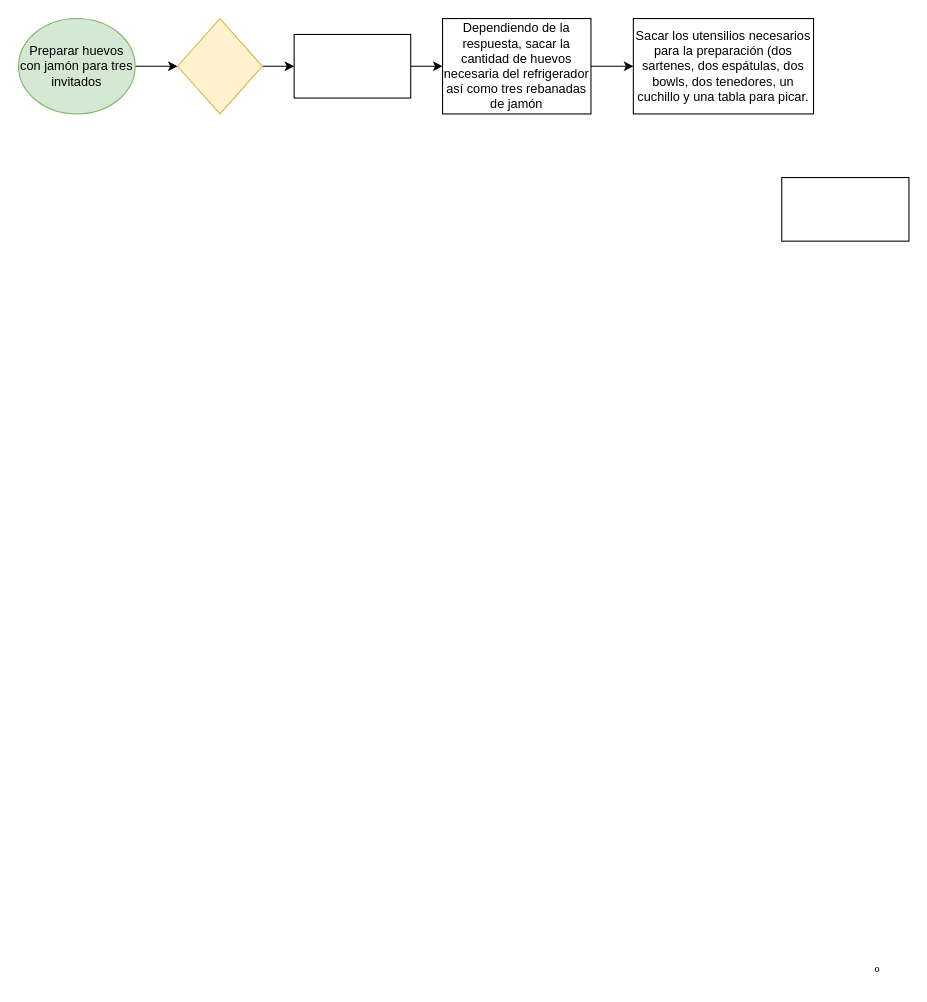
Image size: 927x1002. Some labels were removed from this diagram. Each missing label, with the box of its shape:
Calcular cuántos huevos se van a necesitar para la preparación: (293, 33, 411, 98)
Preguntar a los invitados cuántos come cada uno: (176, 17, 262, 114)
